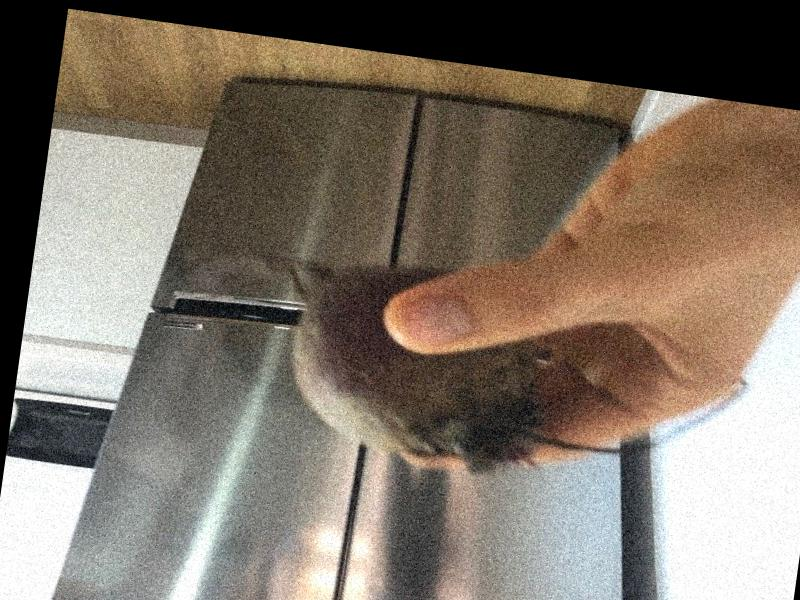Beet: (236, 246, 757, 509)
